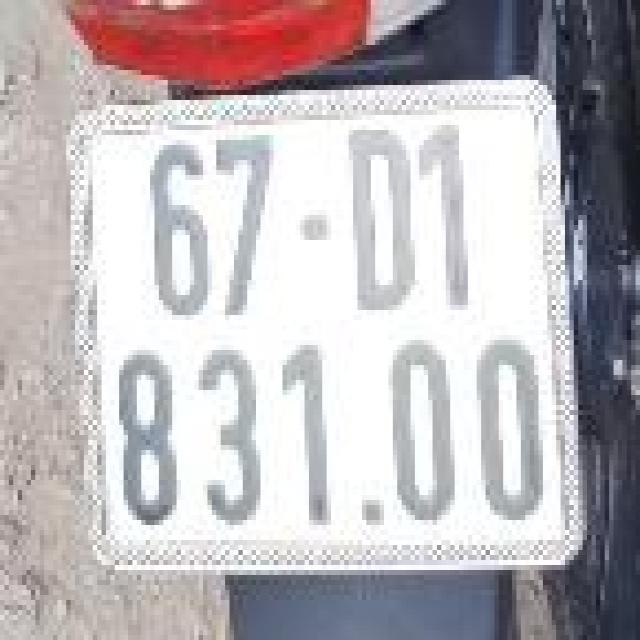0: (472, 315, 548, 540), (380, 332, 459, 538)
1: (415, 115, 494, 310), (278, 338, 349, 538)
3: (194, 325, 269, 540)
6: (144, 128, 218, 322)
7: (212, 115, 282, 330)
8: (101, 342, 190, 538)
D: (340, 122, 424, 318)
